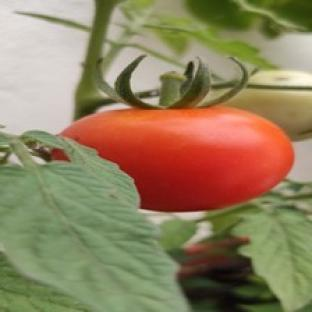Tomato: (62, 106, 293, 211), (226, 70, 311, 140)
